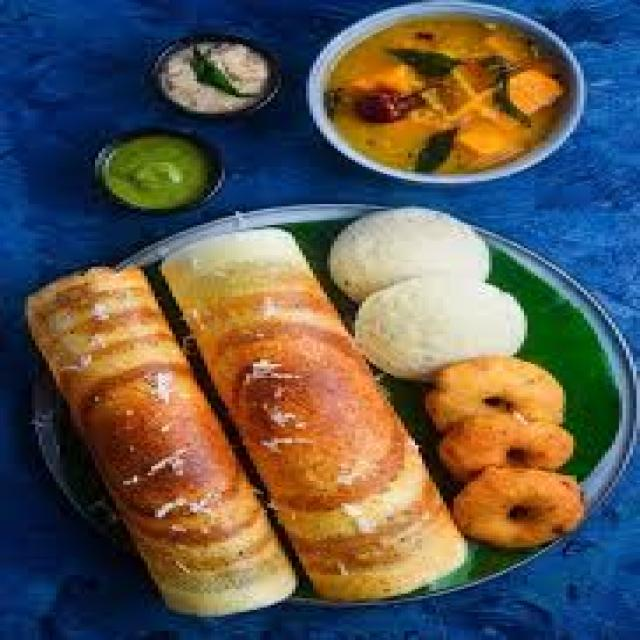DOSA: (159, 228, 474, 606), (23, 266, 299, 618)
IDLI: (352, 282, 533, 377), (332, 207, 493, 300)
MEDU VADA: (450, 466, 581, 547), (428, 359, 564, 434), (441, 419, 576, 482)
